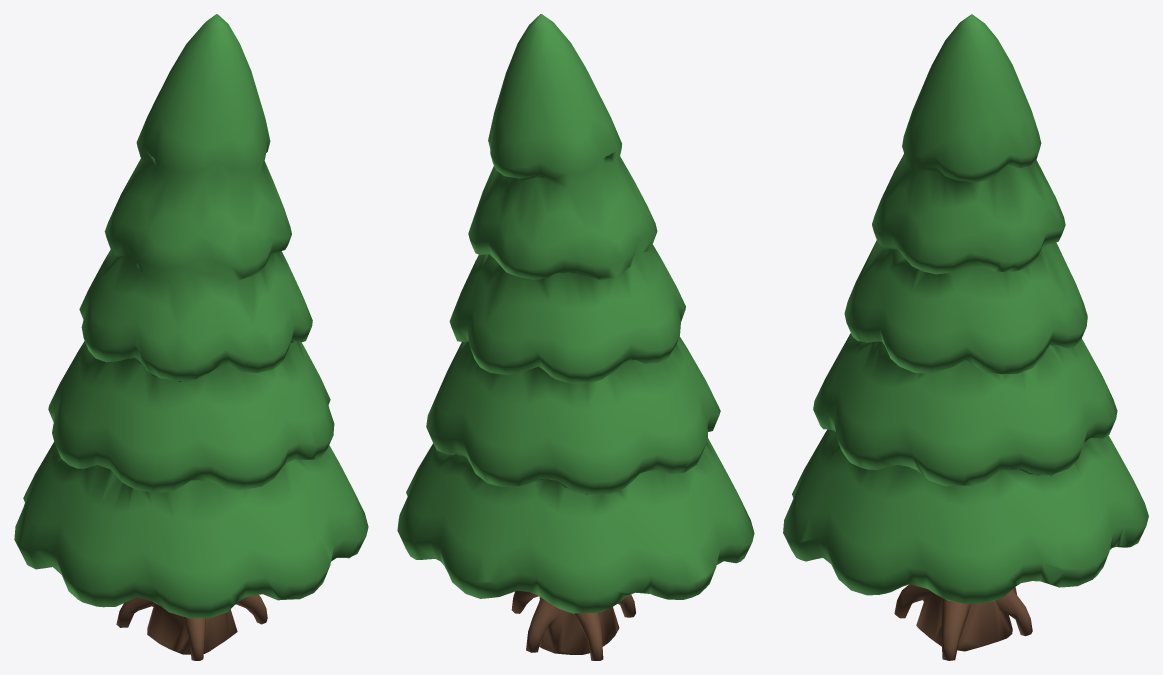
The model's file is tree_pine.glb.
3 views of the same model, side by side, from view 1: azimuth 30°, elevation 25°; view 2: azimuth 150°, elevation 25°; view 3: azimuth 270°, elevation 25° (orthographic). The views are drawn at different scales.
Visible parts, largest first — view 1: Canopy, Trunk; view 2: Canopy, Trunk; view 3: Canopy, Trunk.
Boxes of the visible parts, bbox=[...] form: Canopy: bbox=[14, 14, 368, 618]; Trunk: bbox=[116, 595, 267, 660]; Canopy: bbox=[397, 14, 754, 613]; Trunk: bbox=[511, 590, 635, 660]; Canopy: bbox=[783, 14, 1148, 603]; Trunk: bbox=[894, 584, 1032, 660].
Size of what is drawn, in the model's own units: 4.95 by 9.48 by 4.98.
